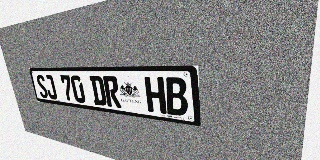0: (70, 75, 86, 103)
7: (59, 75, 75, 102)
B: (164, 77, 188, 117)
D: (89, 76, 107, 106)
H: (144, 77, 167, 114)
J: (43, 75, 58, 100)
R: (103, 76, 122, 108)
S: (35, 75, 49, 99)
